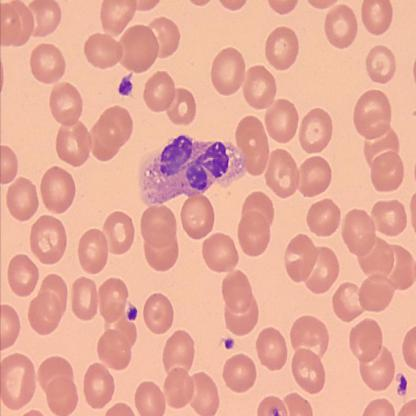Segmented neutrophil: (137, 130, 249, 208)
